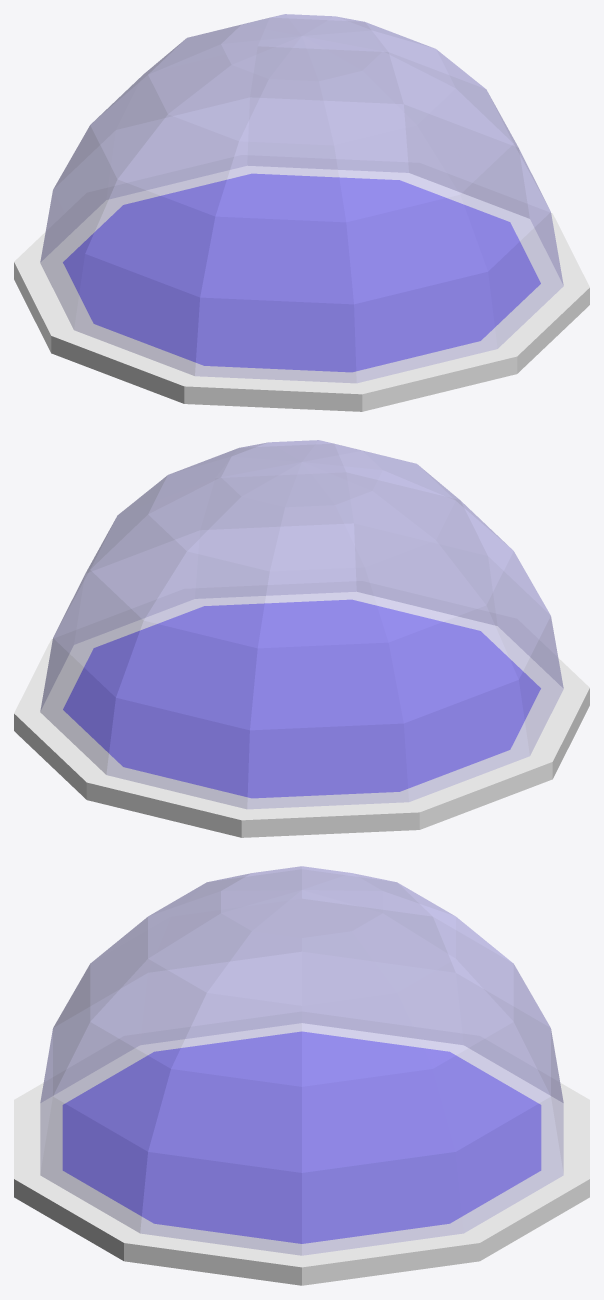
Rendered from Building_04.fbx.
3 views of the same model, one above another, from view 1: azimuth 30°, elevation 25°; view 2: azimuth 150°, elevation 25°; view 3: azimuth 270°, elevation 25° (orthographic). The views are drawn at different scales.
Visible parts, largest first — view 1: Building_04; view 2: Building_04; view 3: Building_04.
Boxes of the visible parts, box(x1,y1,x2,y2) form: Building_04: box(14, 14, 589, 411); Building_04: box(14, 440, 589, 837); Building_04: box(14, 866, 589, 1285).
Bounding box in the file's own units: 138 × 67.3 × 131.
